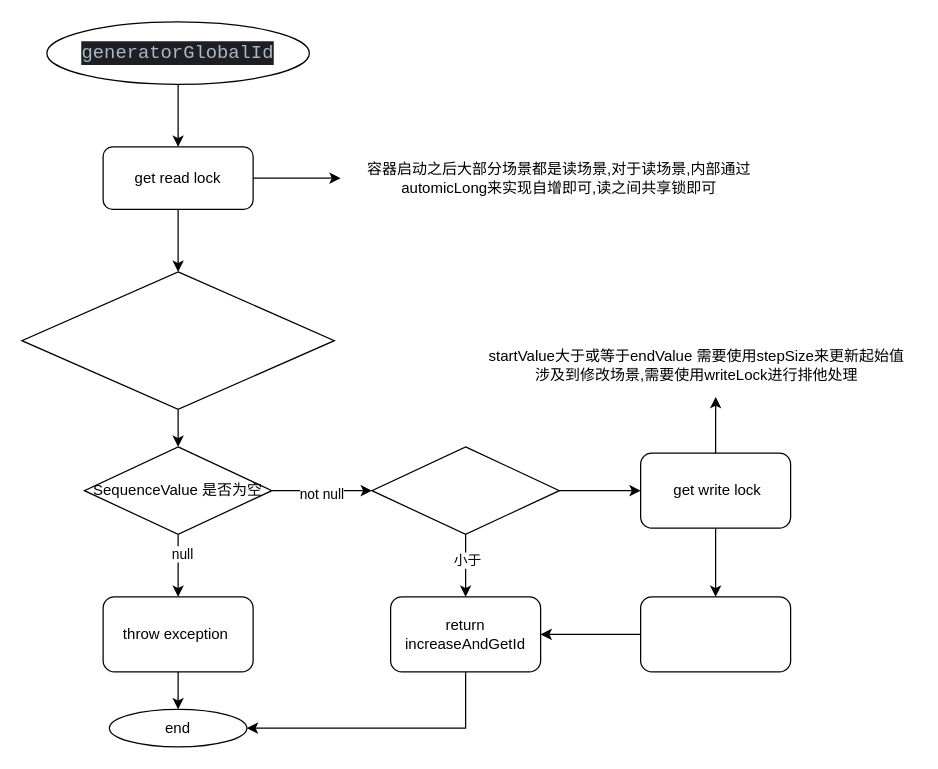
This 938x769 diagram has some shape labels left out. Each missing label, with the centre of its shape:
Holder 根据SequenceName 获取SequenceValue: [177,340]
update DB and put new sequenceValue to map .: [715,634]
判断 Sequencevalue 中 startValue 是否小于 endValue: [465,490]
